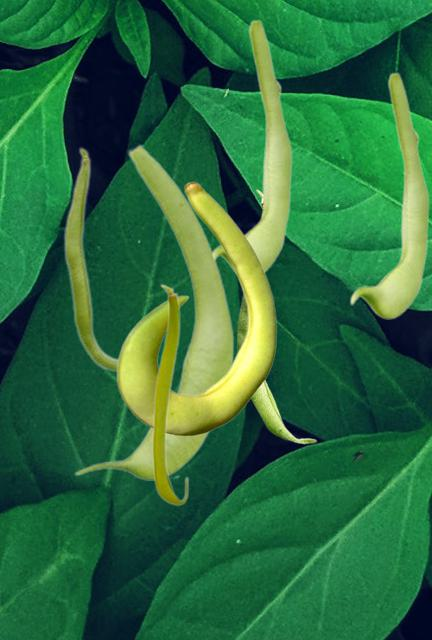french_bean: (73, 142, 234, 479), (116, 181, 276, 435), (212, 18, 291, 276), (237, 189, 316, 443), (349, 71, 428, 318), (62, 146, 117, 374), (151, 283, 188, 505)
